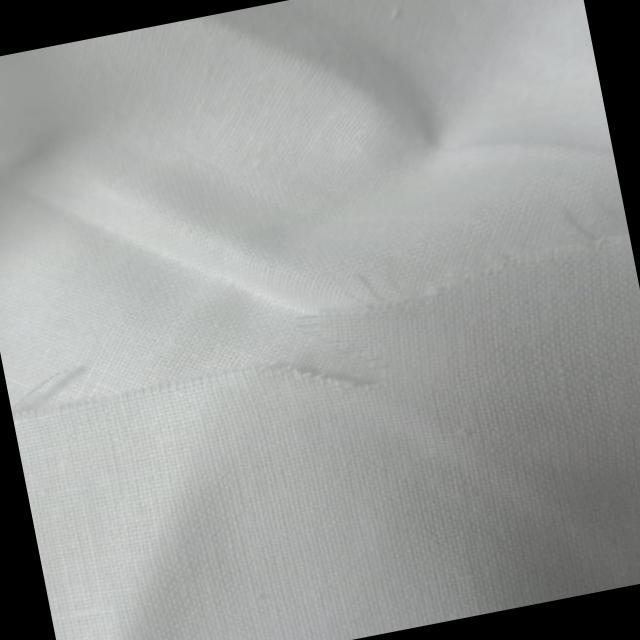cut: (262, 293, 398, 409)
